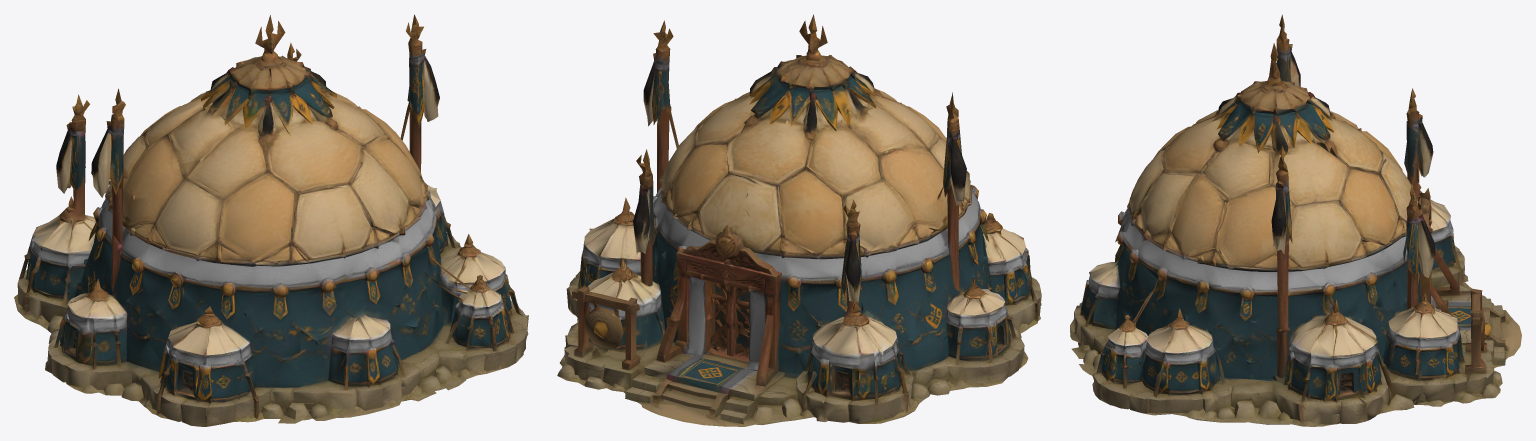
Rendered from clans_shell_hall.glb.
3 renders of one model, left to right at view 1: azimuth 30°, elevation 25°; view 2: azimuth 150°, elevation 25°; view 3: azimuth 270°, elevation 25°, orthographic. The views are drawn at different scales.
Visible parts, largest first — view 1: clans_shell_hall; view 2: clans_shell_hall; view 3: clans_shell_hall.
Boxes of the visible parts, left/top/right/bottom form: clans_shell_hall: left=14, top=14, right=528, bottom=426; clans_shell_hall: left=557, top=14, right=1041, bottom=426; clans_shell_hall: left=1070, top=14, right=1521, bottom=426.
Bounding box in the file's own units: 7.97 × 5.73 × 8.
Materials: 2 (2 with a texture image).
